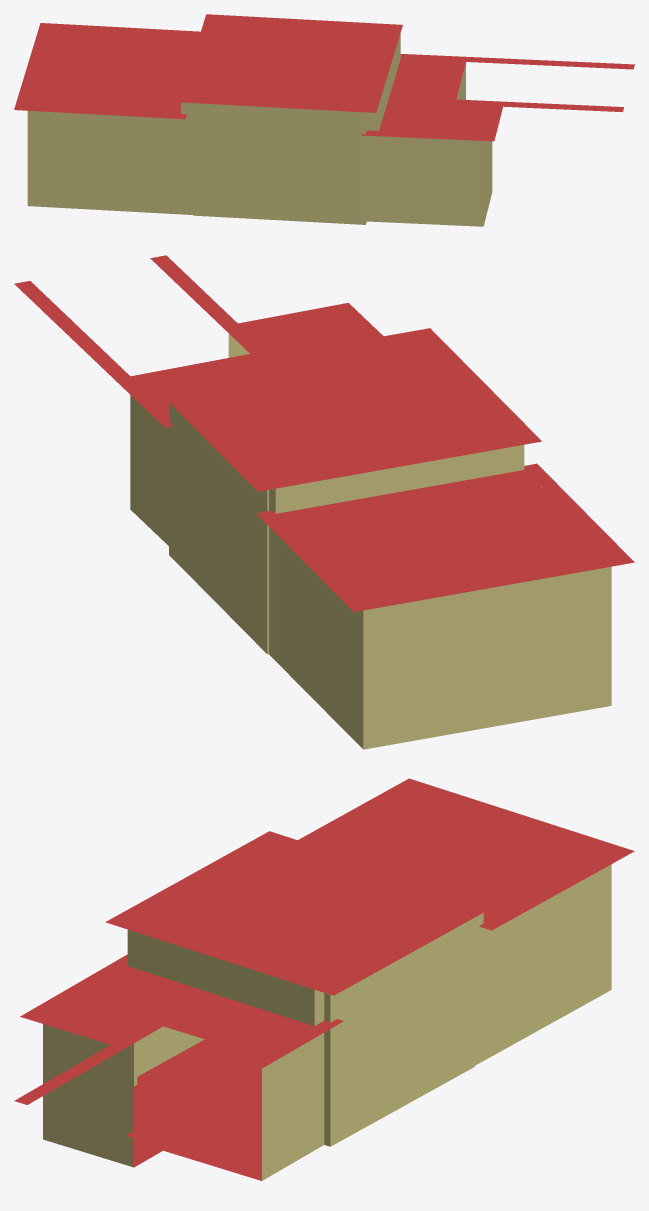
3 renders of one model, top to bottom at view 1: azimuth 30°, elevation 25°; view 2: azimuth 150°, elevation 25°; view 3: azimuth 270°, elevation 25°, orthographic. The views are drawn at different scales.
Visible parts, largest first — view 1: group_9, group_7, group_5, group_3, group_13, group_11, group_8, group_4; view 2: group_5, group_7, group_3, group_9, group_11, group_13, group_8, group_4; view 3: group_9, group_7, group_3, group_11, group_5, group_13, group_10, group_14, group_8, group_4.
Part boxes in pixels (x1,y1,x2,y2): group_9: [181, 33, 400, 224]; group_7: [179, 14, 402, 112]; group_5: [27, 110, 186, 214]; group_3: [14, 23, 200, 119]; group_13: [379, 62, 492, 226]; group_11: [361, 54, 634, 141]; group_8: [180, 14, 402, 112]; group_4: [28, 23, 195, 99]; group_5: [272, 530, 611, 749]; group_7: [146, 328, 541, 491]; group_3: [256, 463, 634, 611]; group_9: [169, 402, 524, 657]; group_11: [14, 255, 383, 427]; group_13: [130, 333, 249, 545]; group_8: [146, 328, 541, 490]; group_4: [257, 511, 589, 610]; group_9: [127, 913, 483, 1149]; group_7: [106, 831, 497, 995]; group_3: [298, 778, 634, 930]; group_11: [14, 954, 343, 1139]; group_5: [478, 864, 611, 1063]; group_13: [43, 1024, 314, 1180]; group_10: [134, 1039, 261, 1133]; group_14: [134, 1092, 261, 1180]; group_8: [107, 832, 496, 995]; group_4: [420, 790, 633, 928].
Size of the model in its own units: 37.25 by 28.08 by 8.02.
